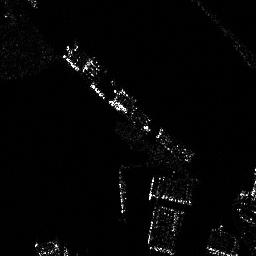ship: (118, 175, 126, 213)
